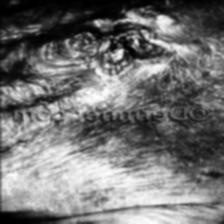Potentially Malignant Skin Tumors: (38, 0, 176, 76)
